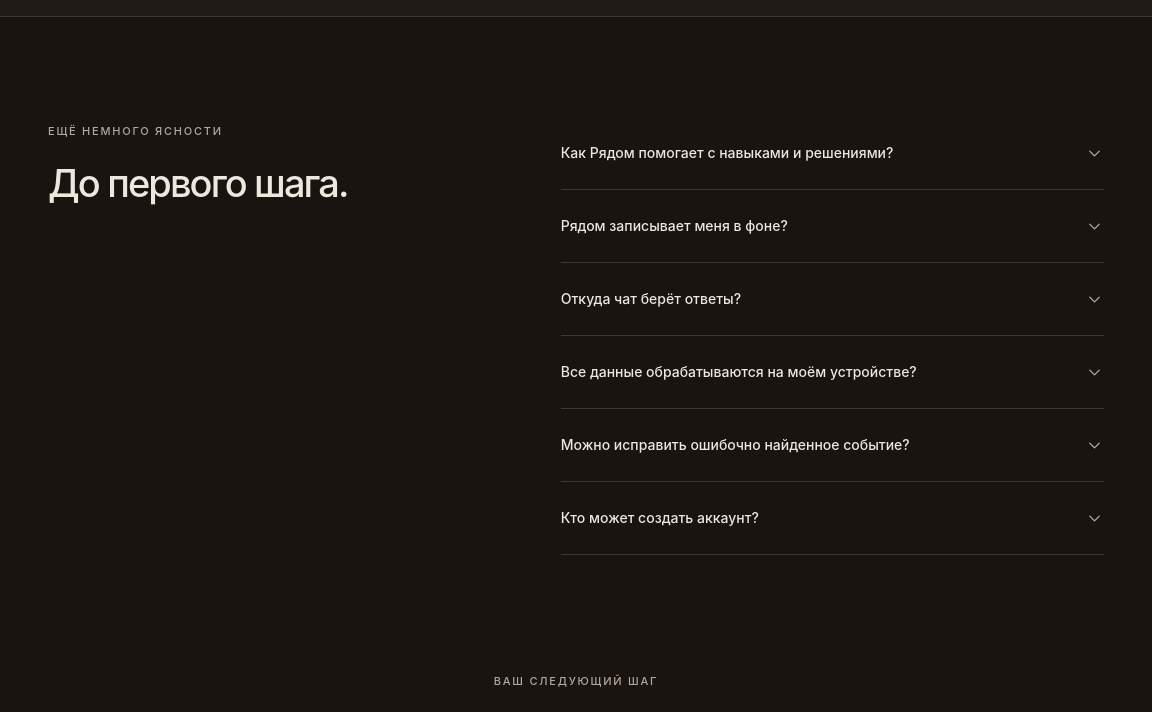
offers real destinations and accessible FAQ disclosures
(page scrolled)
What coordinates should you click on to do the following:
click the heading "Все данные обрабатываются на моём устройстве?"
I would click on:
 (832, 372)
Its box is [561,363,1104,382].
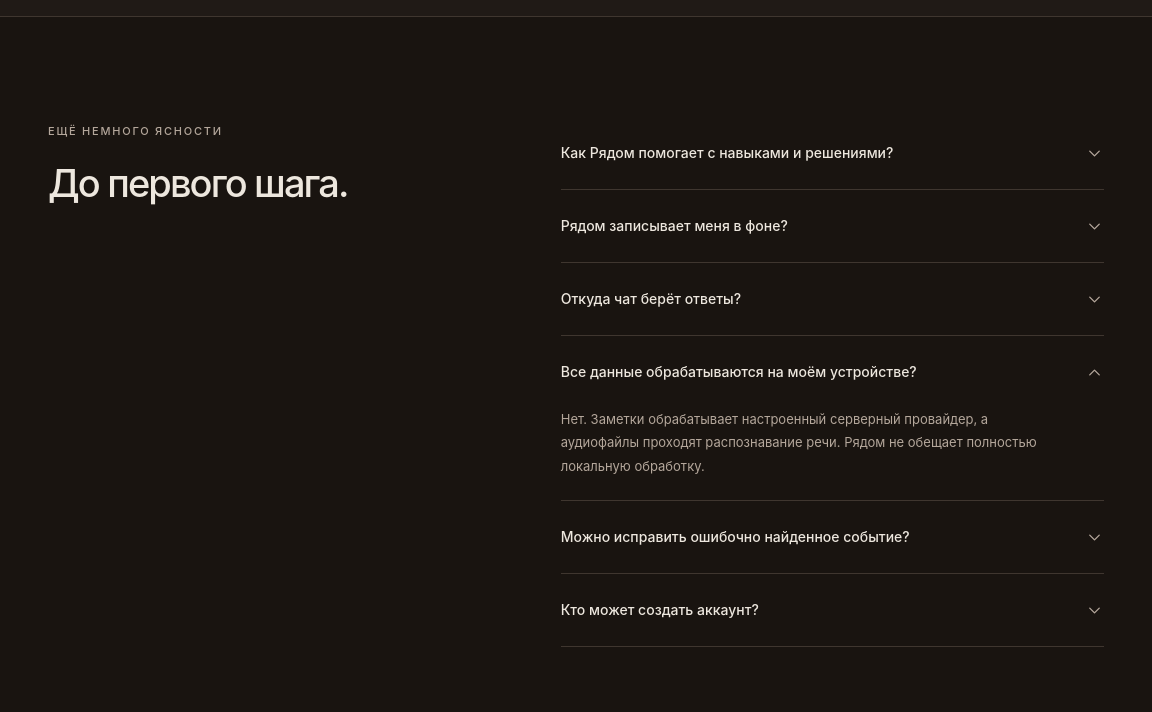
Expected: the text "Заметки обрабатывает настроенный серверный провайдер" is shown, [561,411,1037,474]
